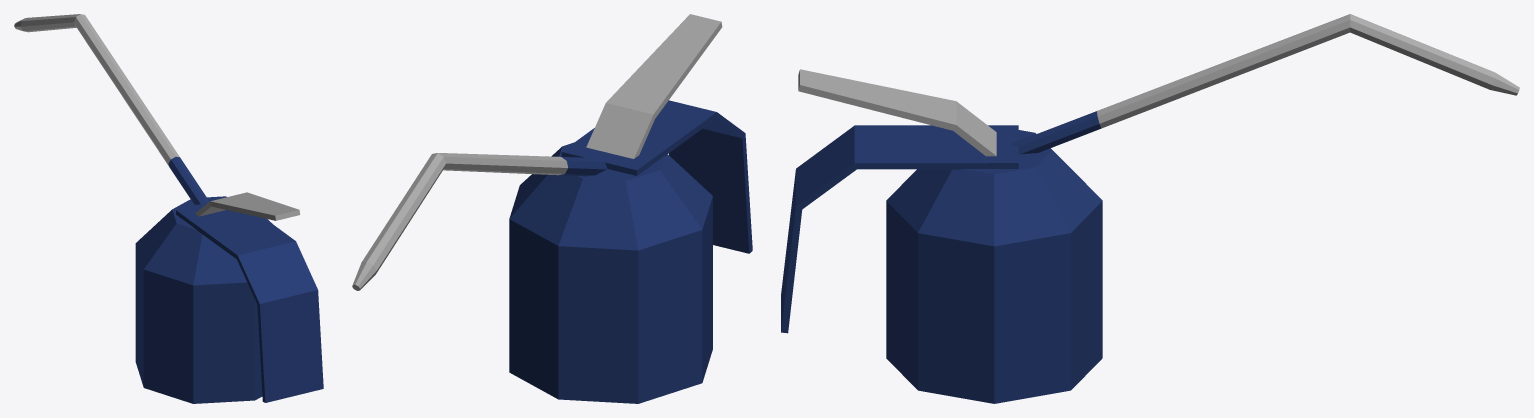
Rendered from m_oilcant.fbx.
The picture shows the model from 3 angles, left to right: view 1: azimuth 30°, elevation 25°; view 2: azimuth 150°, elevation 25°; view 3: azimuth 270°, elevation 25°; orthographic projection. The views are drawn at different scales.
Parts seen in each view (by area): view 1: Cylinder.003, Plane.003, Plane, Plane.001; view 2: Cylinder.003, Plane.003, Plane.001, Plane; view 3: Cylinder.003, Plane.003, Plane, Plane.001.
Part boxes in pixels (x1,y1,x2,y2): Cylinder.003: [135, 196, 272, 403]; Plane.003: [176, 204, 323, 402]; Plane: [14, 14, 209, 205]; Plane.001: [195, 192, 300, 220]; Cylinder.003: [509, 142, 712, 403]; Plane.003: [561, 100, 752, 253]; Plane.001: [586, 14, 722, 158]; Plane: [352, 153, 607, 290]; Cylinder.003: [886, 130, 1102, 403]; Plane.003: [781, 125, 1018, 333]; Plane: [1011, 14, 1519, 154]; Plane.001: [798, 69, 996, 156].
Size of the model in its own units: 45.93 by 80.52 by 157.
